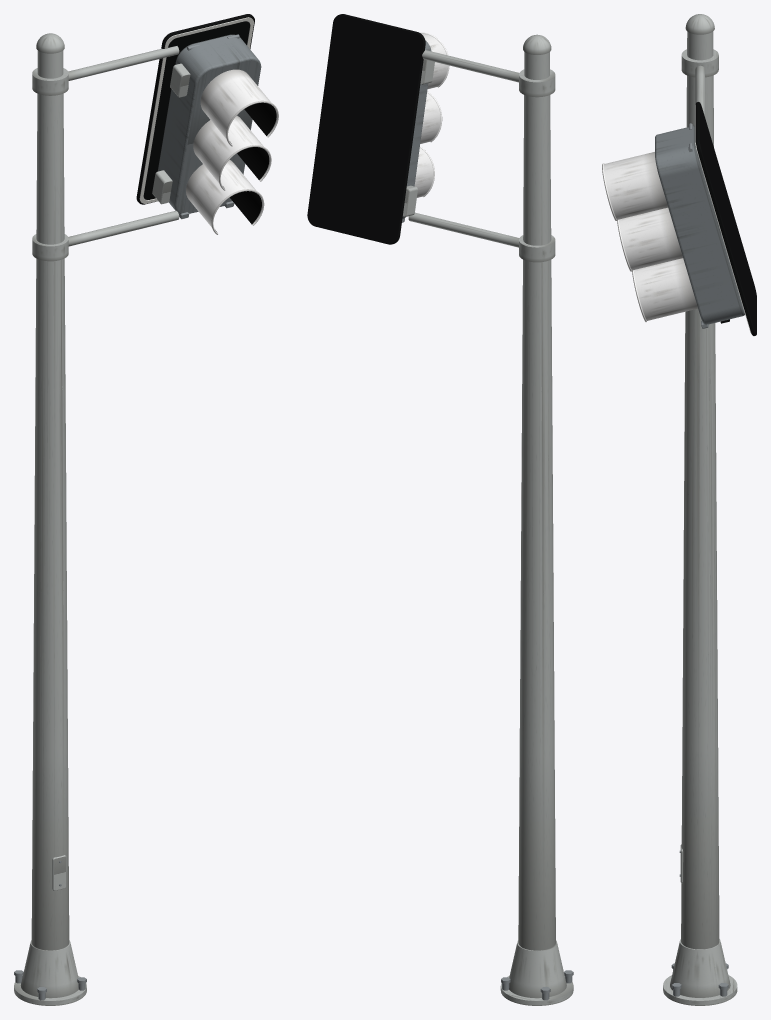
3 renders of one model, left to right at view 1: azimuth 30°, elevation 25°; view 2: azimuth 150°, elevation 25°; view 3: azimuth 270°, elevation 25°, orthographic. The views are drawn at different scales.
Visible parts, largest first — view 1: jp-veh-v250, opt_backplate_on; view 2: jp-veh-v250, opt_backplate_on; view 3: jp-veh-v250, opt_backplate_on.
Boxes of the visible parts, box(x1,y1,x2,y2) form: jp-veh-v250: box(14, 33, 278, 1005); opt_backplate_on: box(136, 14, 254, 204); jp-veh-v250: box(402, 32, 573, 1005); opt_backplate_on: box(307, 14, 425, 244); jp-veh-v250: box(602, 14, 744, 1005); opt_backplate_on: box(695, 102, 756, 335).
Size of the model in its own units: 1.49 by 5.78 by 0.8324.
16 materials, 3 textured.
